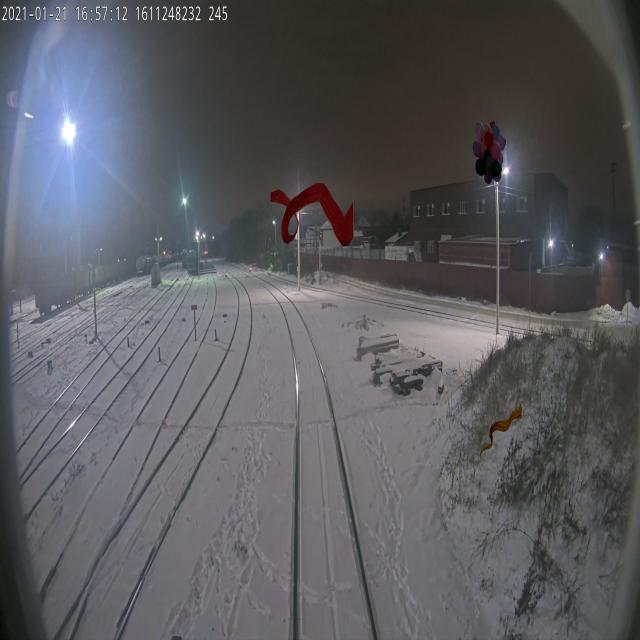balloon: (473, 120, 506, 184)
floating object: (271, 182, 354, 246), (478, 398, 522, 462)
